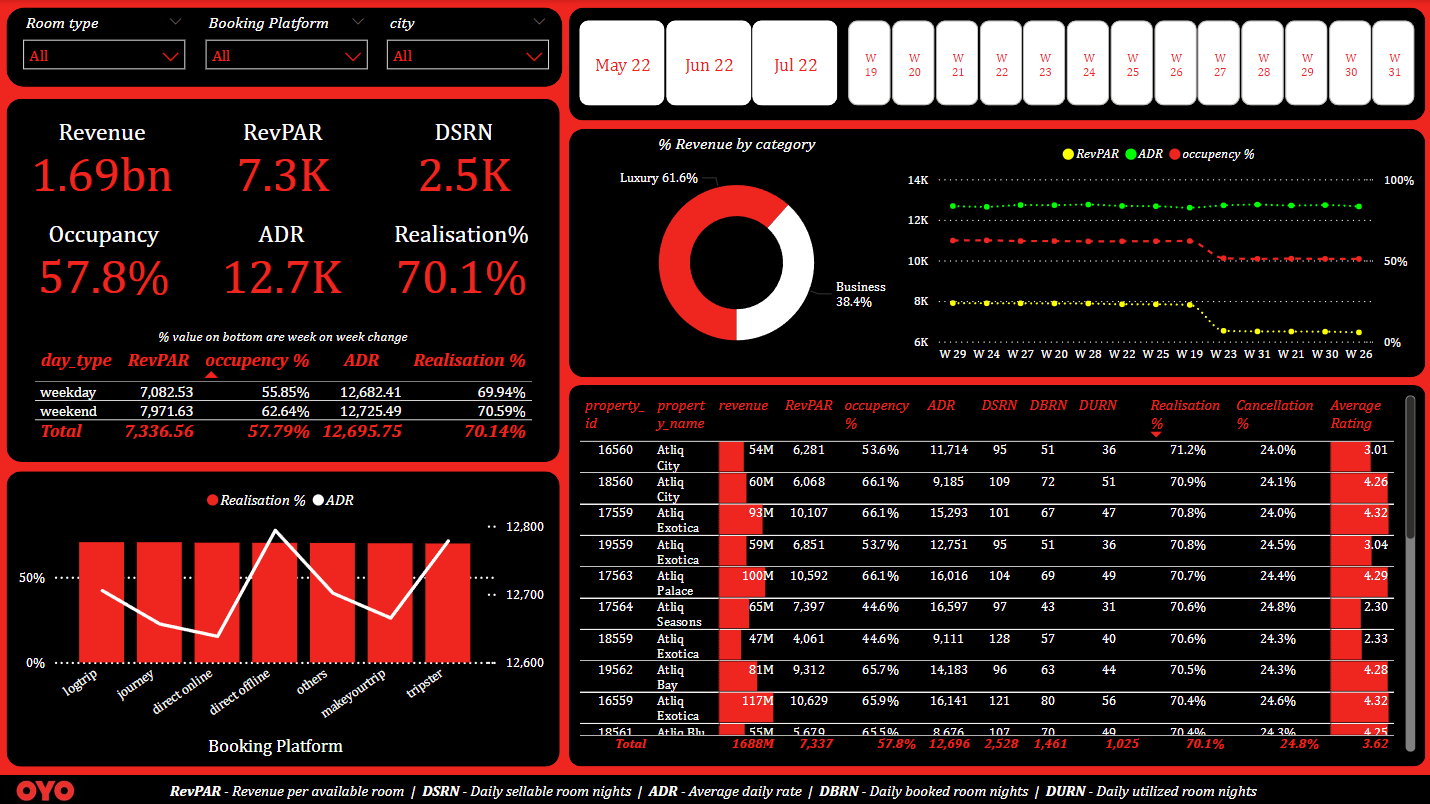

This screenshot's page, from the dashboard's own definition file:
{"tool":"powerbi","page":{"name":"Page 1","canvas":[1280,720],"ordinal":0},"visuals":[{"type":"shape","box":[7,88.4,494.2,324.4],"z":0},{"type":"shape","box":[7,420.9,494.2,264],"z":1000},{"type":"shape","box":[509.3,344.2,765.1,340.7],"z":2000},{"type":"shape","box":[7,7,496.5,70.9],"z":3000},{"type":"shape","box":[509.3,115.1,765.1,222.1],"z":4000},{"type":"shape","box":[509.3,7,765.1,101.2],"z":5000},{"type":"tableEx","fields":{"Values":["dim_hotels.property_id","dim_hotels.property_name","measure_table.revenue","measure_table.RevPAR","measure_table.occupency %","measure_table.ADR","measure_table.DSRN","measure_table.DBRN","measure_table.DURN","measure_table.Realisation %","measure_table.Cancellation %","measure_table.Average Rating"]},"box":[512.8,348.8,758.1,327.9],"z":6000},{"type":"slicer","fields":{"Values":["dim_rooms.room_class"]},"box":[11.6,7,165.1,57],"z":7000},{"type":"advancedSlicerVisual","fields":{"Values":["dim_date.mmm yy.Variation.Date Hierarchy.Year"]},"box":[514,14,240,86],"z":8000},{"type":"advancedSlicerVisual","fields":{"Values":["dim_date.week no"]},"box":[753.5,14,516.3,86],"z":9000},{"type":"card","title":"Revenue","fields":{"Values":["measure_table.revenue"]},"box":[11.6,104.5,161.6,72.1],"z":10000},{"type":"donutChart","title":"% Revenue by category","fields":{"Category":["dim_hotels.category"],"Y":["measure_table.revenue"]},"box":[514,119.8,290.7,214],"z":11000},{"type":"lineChart","fields":{"Y":["measure_table.RevPAR","measure_table.ADR"],"Category":["dim_date.week no"],"Y2":["measure_table.occupency %"]},"box":[805.8,118.6,464,214],"z":12000},{"type":"lineStackedColumnComboChart","fields":{"Y":["measure_table.Realisation %"],"Y2":["measure_table.ADR"],"Category":["fact_bookings.booking_platform"]},"box":[11.6,426.7,483.7,253.5],"z":13000},{"type":"slicer","fields":{"Values":["dim_hotels.city"]},"box":[336,7,165.1,57],"z":14000},{"type":"slicer","fields":{"Values":["fact_bookings.booking_platform"]},"box":[174.4,7,165.1,57],"z":15000},{"type":"card","title":"RevPAR","fields":{"Values":["measure_table.RevPAR"]},"box":[173.3,104.5,160.5,72.1],"z":16000},{"type":"card","title":"DSRN","fields":{"Values":["measure_table.DSRN"]},"box":[334.9,104.5,160.5,72.1],"z":17000},{"type":"card","title":"Occupancy","fields":{"Values":["measure_table.occupency %"]},"box":[14,196.3,160.5,72.1],"z":18000},{"type":"card","title":"ADR","fields":{"Values":["measure_table.ADR"]},"box":[172.1,196.3,160.5,72.1],"z":19000},{"type":"card","title":"Realisation%","fields":{"Values":["measure_table.Realisation %"]},"box":[332.6,196.3,160.5,72.1],"z":20000},{"type":"tableEx","title":"% value on bottom are week on week change","fields":{"Values":["dim_date.day_type","measure_table.RevPAR","measure_table.occupency %","measure_table.ADR","measure_table.Realisation %"]},"box":[25.6,294.2,455.8,110.5],"z":21000},{"type":"shape","box":[0,692.2,1279.8,28],"z":22000},{"type":"textbox","box":[12.8,691.9,1258.1,27.9],"z":23000},{"type":"image","box":[0,692,81.1,28.1],"z":24000}]}

Visuals, with their boxes in screenshot pixels (x1, y1, x2, y2), scaled from the page's 1280x720 canvas onto the 1430x804 screenshot:
shape: <bbox>8, 99, 560, 461</bbox>
shape: <bbox>8, 470, 560, 765</bbox>
shape: <bbox>569, 384, 1424, 765</bbox>
shape: <bbox>8, 8, 563, 87</bbox>
shape: <bbox>569, 129, 1424, 377</bbox>
shape: <bbox>569, 8, 1424, 121</bbox>
tableEx - dim_hotels.property_id x dim_hotels.property_name: <bbox>573, 389, 1420, 756</bbox>
slicer - dim_rooms.room_class: <bbox>13, 8, 197, 71</bbox>
advancedSlicerVisual - dim_date.mmm yy.Variation.Date Hierarchy.Year: <bbox>574, 16, 842, 112</bbox>
advancedSlicerVisual - dim_date.week no: <bbox>842, 16, 1419, 112</bbox>
"Revenue" card: <bbox>13, 117, 193, 197</bbox>
"% Revenue by category" donutChart: <bbox>574, 134, 899, 373</bbox>
lineChart - measure_table.RevPAR x measure_table.ADR: <bbox>900, 132, 1419, 371</bbox>
lineStackedColumnComboChart - measure_table.Realisation % x measure_table.ADR: <bbox>13, 476, 553, 760</bbox>
slicer - dim_hotels.city: <bbox>375, 8, 560, 71</bbox>
slicer - fact_bookings.booking_platform: <bbox>195, 8, 379, 71</bbox>
"RevPAR" card: <bbox>194, 117, 373, 197</bbox>
"DSRN" card: <bbox>374, 117, 553, 197</bbox>
"Occupancy" card: <bbox>16, 219, 195, 300</bbox>
"ADR" card: <bbox>192, 219, 372, 300</bbox>
"Realisation%" card: <bbox>372, 219, 551, 300</bbox>
"% value on bottom are week on week change" tableEx: <bbox>29, 329, 538, 452</bbox>
shape: <bbox>0, 773, 1429, 803</bbox>
textbox: <bbox>14, 773, 1420, 803</bbox>
image: <bbox>0, 773, 91, 803</bbox>
